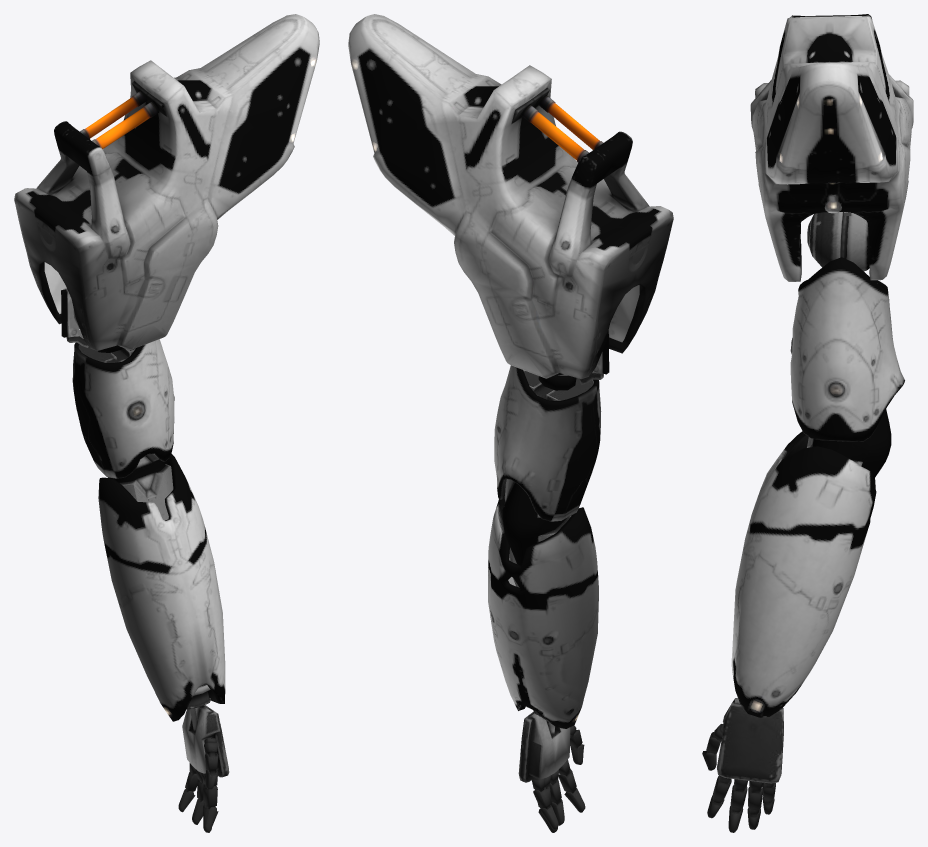
The model's file is armLDEF.gltf.
3 renders of one model, left to right at view 1: azimuth 30°, elevation 25°; view 2: azimuth 150°, elevation 25°; view 3: azimuth 270°, elevation 25°, orthographic. The views are drawn at different scales.
Visible parts, largest first — view 1: MP_DEF_Arm_L, MP_DEF_Frame_Arm_L; view 2: MP_DEF_Arm_L, MP_DEF_Frame_Arm_L; view 3: MP_DEF_Arm_L, MP_DEF_Frame_Arm_L.
Boxes of the visible parts, x1,y1,x2,y2 form: MP_DEF_Arm_L: [14, 14, 319, 721]; MP_DEF_Frame_Arm_L: [61, 288, 229, 832]; MP_DEF_Arm_L: [348, 14, 673, 728]; MP_DEF_Frame_Arm_L: [502, 331, 609, 832]; MP_DEF_Arm_L: [731, 14, 913, 717]; MP_DEF_Frame_Arm_L: [702, 212, 891, 832].
Size of the model in its own units: 0.5233 by 1.4 by 0.3175.
